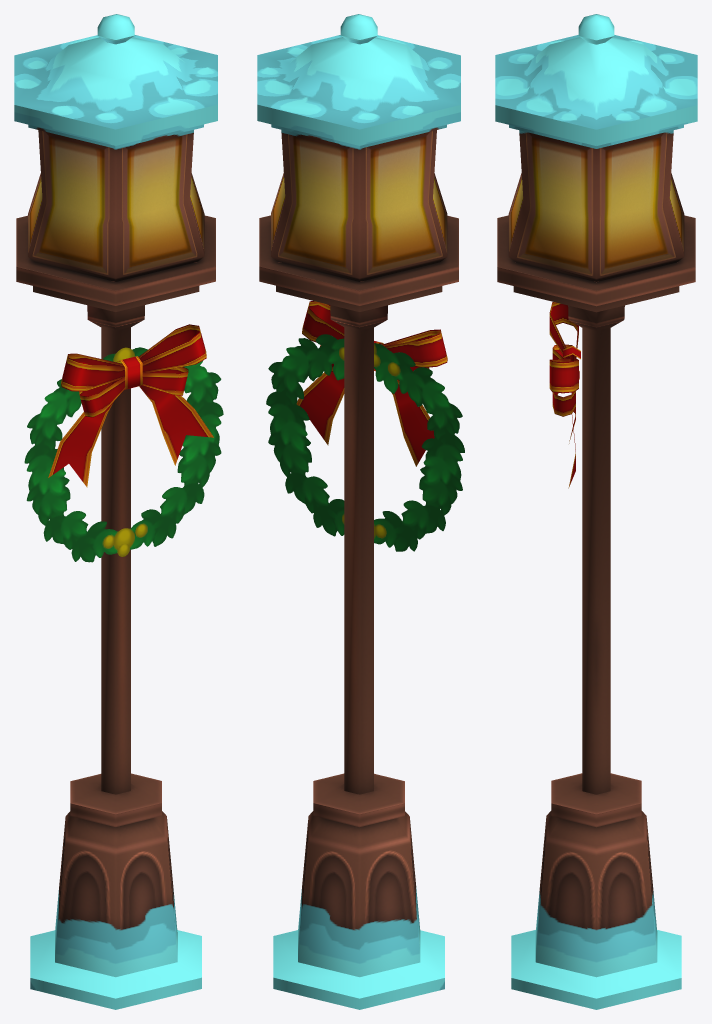
The model's file is Lamp_Post.FBX.
3 renders of one model, left to right at view 1: azimuth 30°, elevation 25°; view 2: azimuth 150°, elevation 25°; view 3: azimuth 270°, elevation 25°, orthographic.
Visible parts, largest first — view 1: Object463; view 2: Object463; view 3: Object463.
Part boxes in pixels (x1=…): Object463: x1=14, y1=14, x2=223, y2=1009; Object463: x1=257, y1=14, x2=464, y2=1009; Object463: x1=495, y1=14, x2=697, y2=1009.
Bounding box in the file's own units: 24.32 × 107 × 20.61.
Materials: 1 (1 with a texture image).
